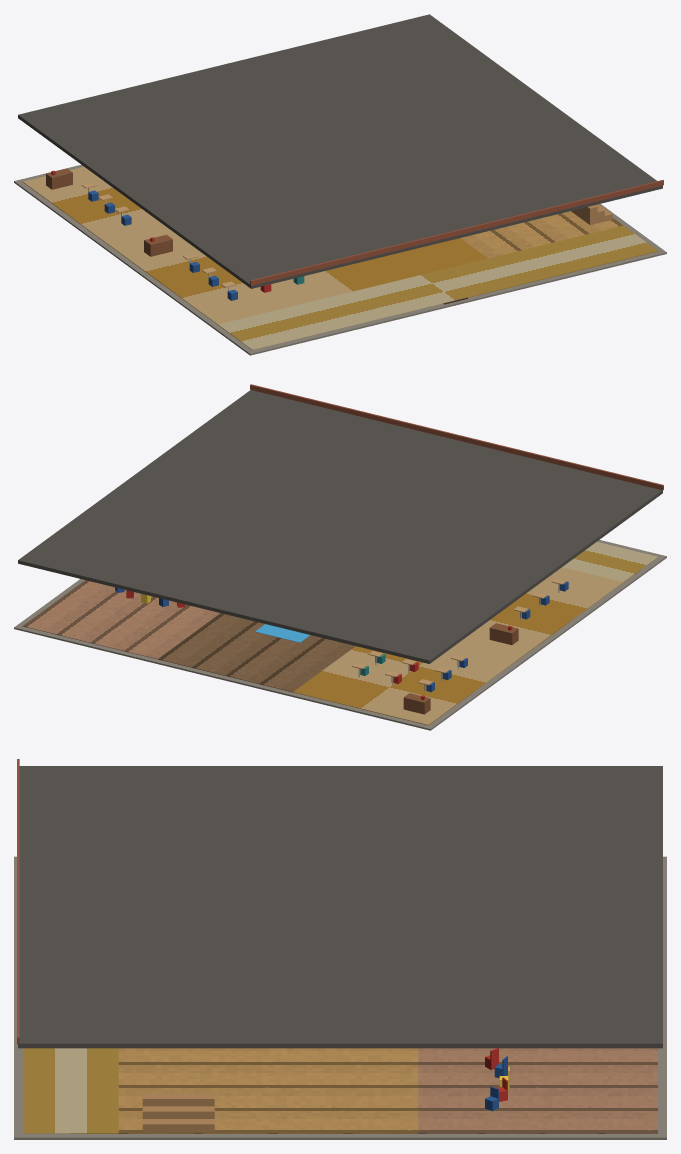
The model's file is structure.glb.
The picture shows the model from 3 angles, top to bottom: view 1: azimuth 30°, elevation 25°; view 2: azimuth 150°, elevation 25°; view 3: azimuth 270°, elevation 25°; orthographic projection. The views are drawn at different scales.
Visible parts, largest first — view 1: Box11, Box47, Box6, Box3, Box8, Box43, Box1, Box9, Box7, Box2; view 2: Box11, Box47, Box6, Box43, Box45, Box44, Box8, Box2, Box7, Box3, Box1; view 3: Box11, Box47, Box6, Box9, Box45, Box3, Box1, Box2, Box42, Box40, Box41, Box7.
Part boxes in pixels (box(x1,y1,x2,y2)): Box11: box(104, 78, 625, 260); Box47: box(18, 14, 517, 181); Box6: box(213, 158, 662, 288); Box3: box(218, 225, 657, 350); Box8: box(109, 230, 487, 324); Box43: box(23, 166, 170, 245); Box1: box(101, 204, 666, 355); Box9: box(461, 211, 623, 258); Box7: box(250, 180, 663, 285); Box2: box(14, 164, 106, 250); Box11: box(107, 417, 626, 600); Box47: box(18, 495, 517, 663); Box6: box(213, 390, 662, 519); Box43: box(293, 646, 514, 725); Box45: box(22, 580, 220, 659); Box44: box(158, 613, 355, 692); Box8: box(454, 567, 623, 661); Box2: box(14, 579, 523, 730); Box7: box(250, 384, 663, 490); Box3: box(562, 542, 657, 581); Box1: box(517, 540, 666, 666); Box11: box(118, 766, 423, 1048); Box47: box(418, 766, 662, 1048); Box6: box(18, 766, 123, 1048); Box9: box(118, 1048, 418, 1133); Box45: box(418, 1048, 657, 1133); Box3: box(23, 1048, 118, 1133); Box1: box(14, 856, 427, 1139); Box2: box(409, 856, 666, 1139); Box42: box(142, 1093, 214, 1106); Box40: box(142, 1119, 214, 1131); Box41: box(142, 1106, 214, 1118); Box7: box(17, 759, 19, 1044).
Bounding box in the file's own units: 27.74 × 4.65 × 27.24.
20 materials, 5 textured.
